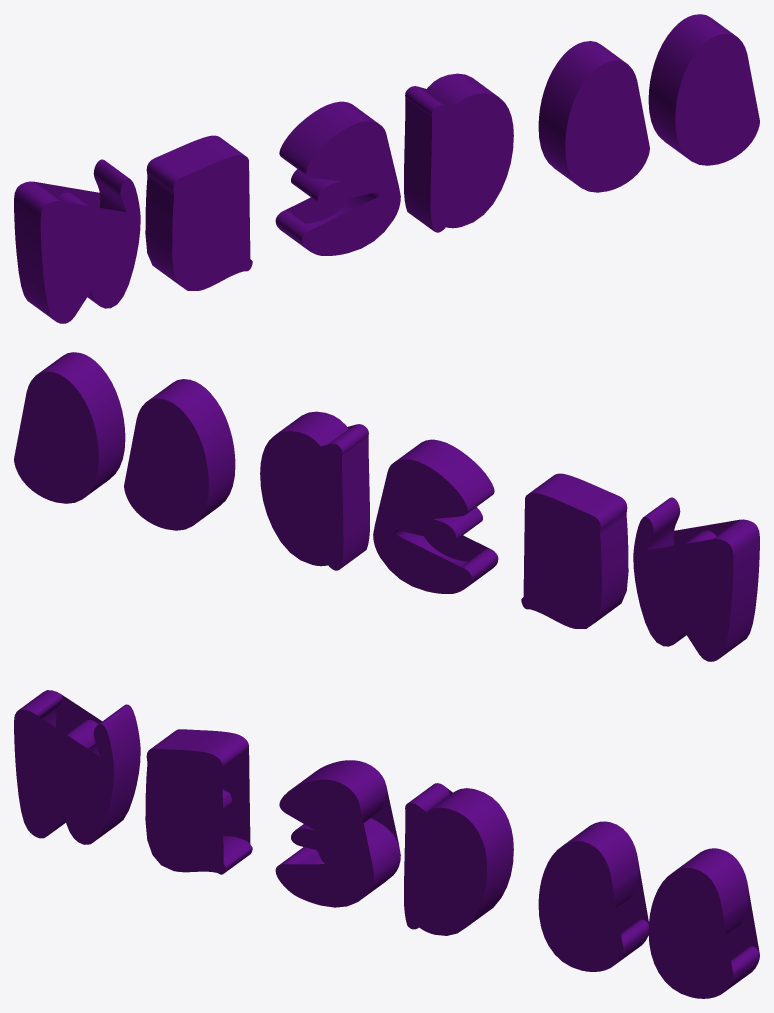
The model's file is WE3DCCText(Transp)OBJ.obj.
3 views of the same model, one above another, from view 1: azimuth 30°, elevation 25°; view 2: azimuth 150°, elevation 25°; view 3: azimuth 330°, elevation 25° (orthographic).
Parts seen in each view (by area): view 1: WE3DCCText; view 2: WE3DCCText; view 3: WE3DCCText.
Boxes of the visible parts, x1,y1,x2,y2 form: WE3DCCText: (14,14,759,323); WE3DCCText: (14,352,759,661); WE3DCCText: (14,690,759,998).
Size of the model in its own units: 51.11 by 8.79 by 3.28.
